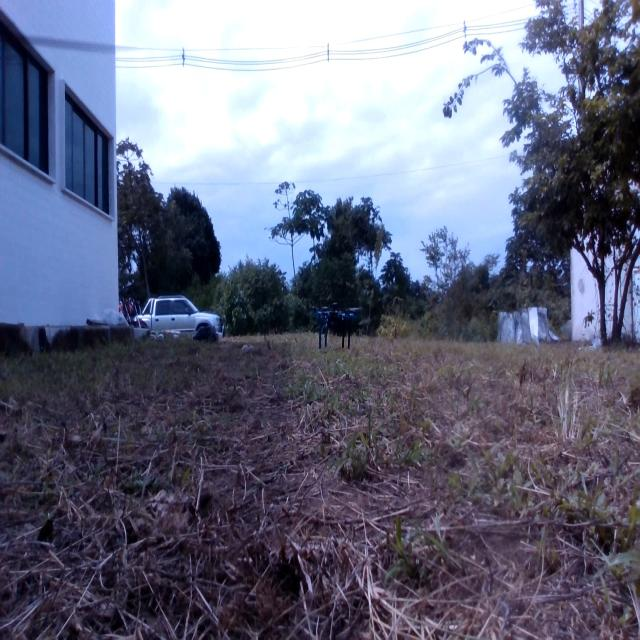-uav-: (302, 290, 372, 360)
